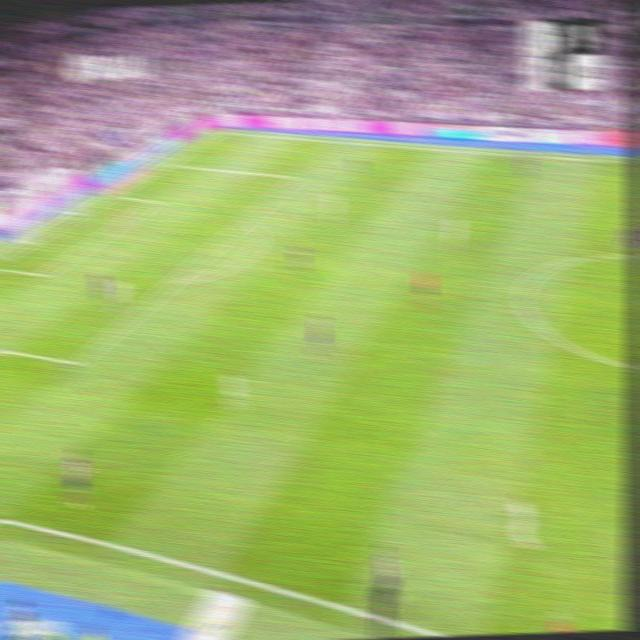bigarea_bottom_inner: (68, 352, 87, 373)
bigarea_top_inner: (290, 170, 303, 182)
bottom_arc_area_intersection: (166, 272, 182, 289)
corner: (213, 128, 225, 134)
smallarea_bottom_inner: (36, 268, 50, 282)
smallarea_top_inner: (149, 196, 161, 206)
top_arc_area_intersection: (242, 210, 255, 224)
